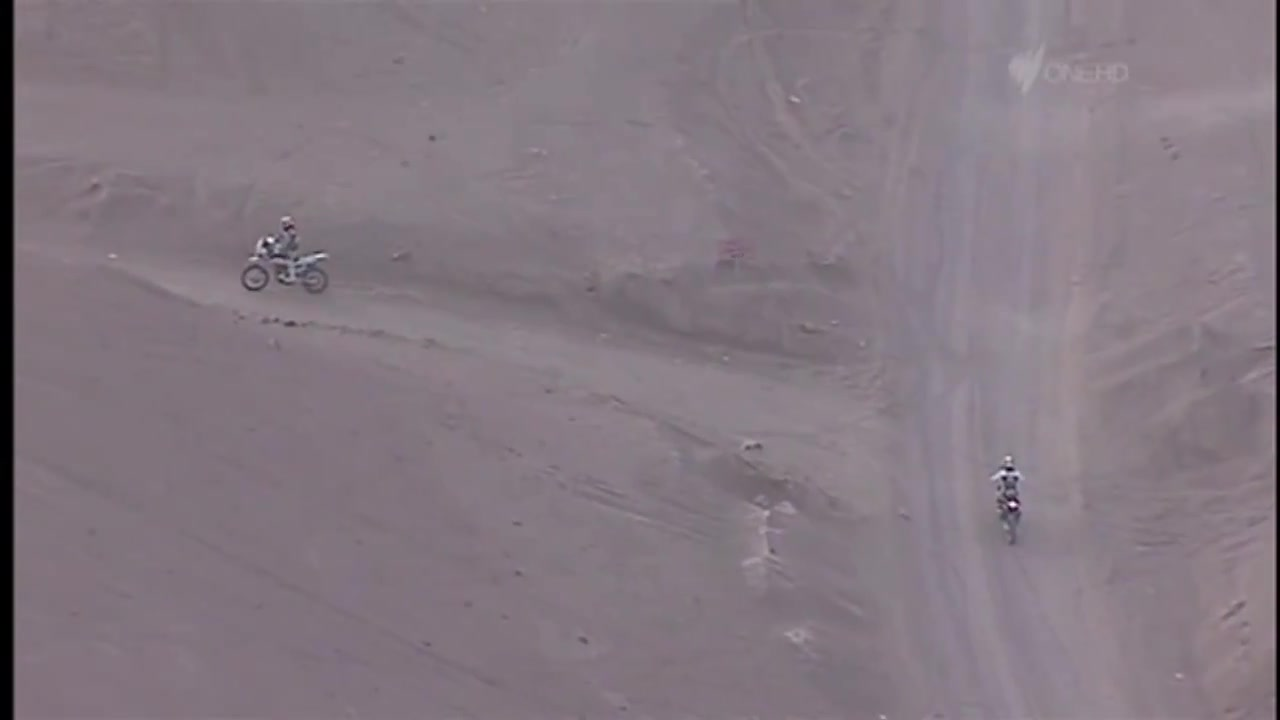motorbike: (245, 238, 341, 297)
